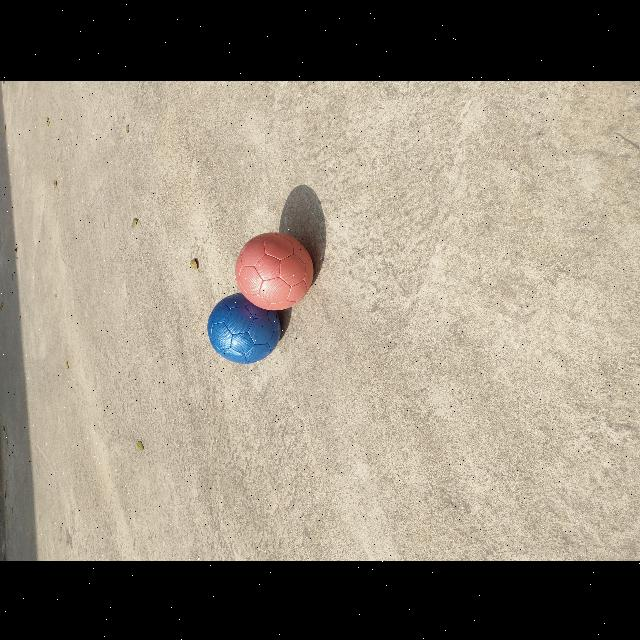B: (207, 291, 281, 363)
R: (235, 232, 314, 310)
